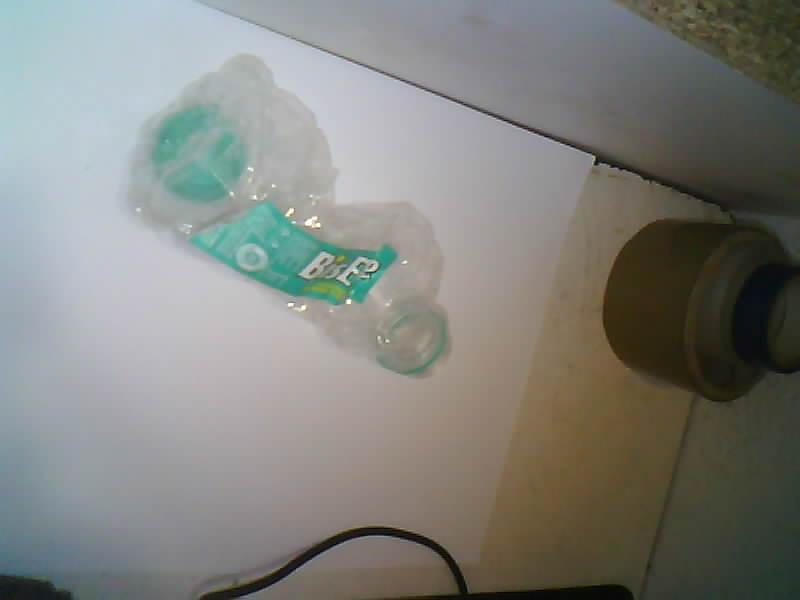non-biodegradable: (130, 55, 448, 375)
